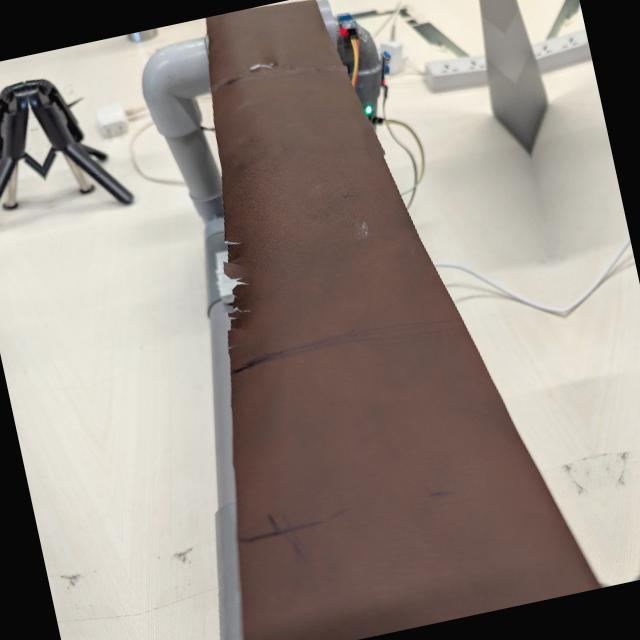edge_damage: (247, 47, 278, 81)
